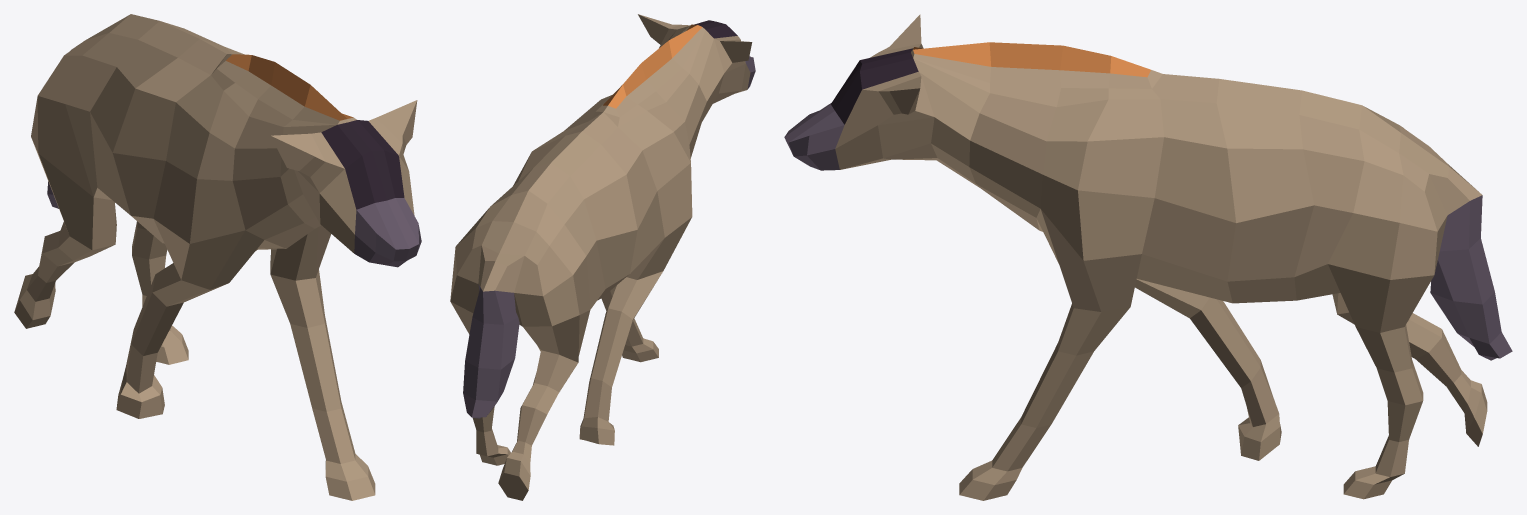
The model's file is Hyäne1.fbx.
The picture shows the model from 3 angles, left to right: view 1: azimuth 30°, elevation 25°; view 2: azimuth 150°, elevation 25°; view 3: azimuth 270°, elevation 25°; orthographic projection. The views are drawn at different scales.
Parts seen in each view (by area): view 1: Hyäne; view 2: Hyäne; view 3: Hyäne.
Part boxes in pixels (<box>): Hyäne: <box>14,14,421,500</box>; Hyäne: <box>450,14,755,500</box>; Hyäne: <box>784,14,1512,500</box>.
Bounding box in the file's own units: 0.4757 × 1.19 × 1.83.
